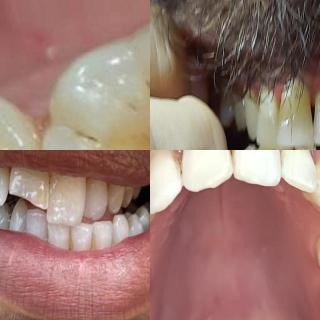cavities: (118, 106, 150, 150)
maligned: (8, 150, 50, 214), (51, 172, 85, 226), (80, 179, 114, 214), (0, 165, 12, 205)
stains: (83, 228, 101, 264), (67, 230, 75, 253), (220, 150, 238, 158)
